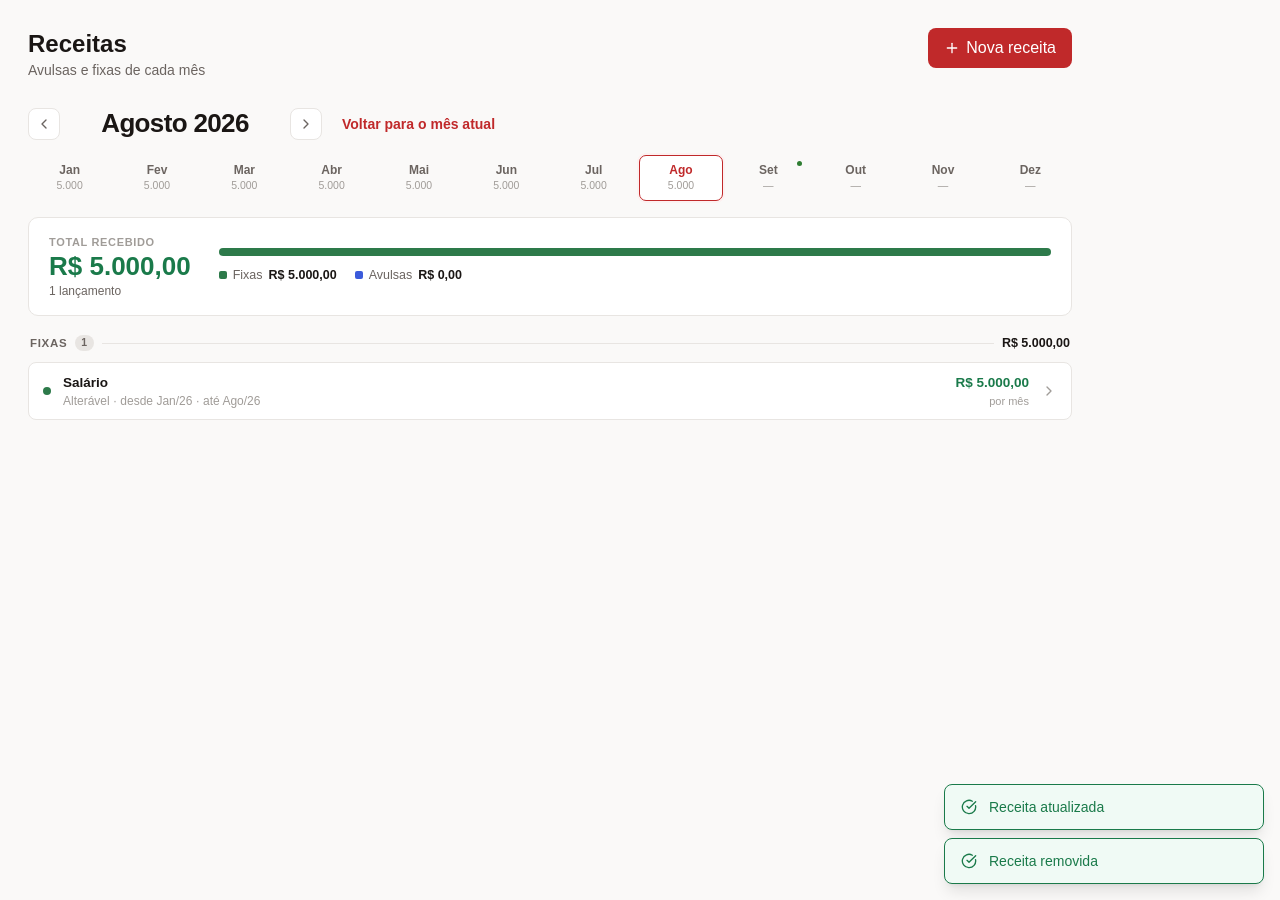
Test: página de receitas: Ficha de fixa › fixa encerrada só consulta
Click the button "Salário" at (86, 382), box 28,362 -> 1072,420
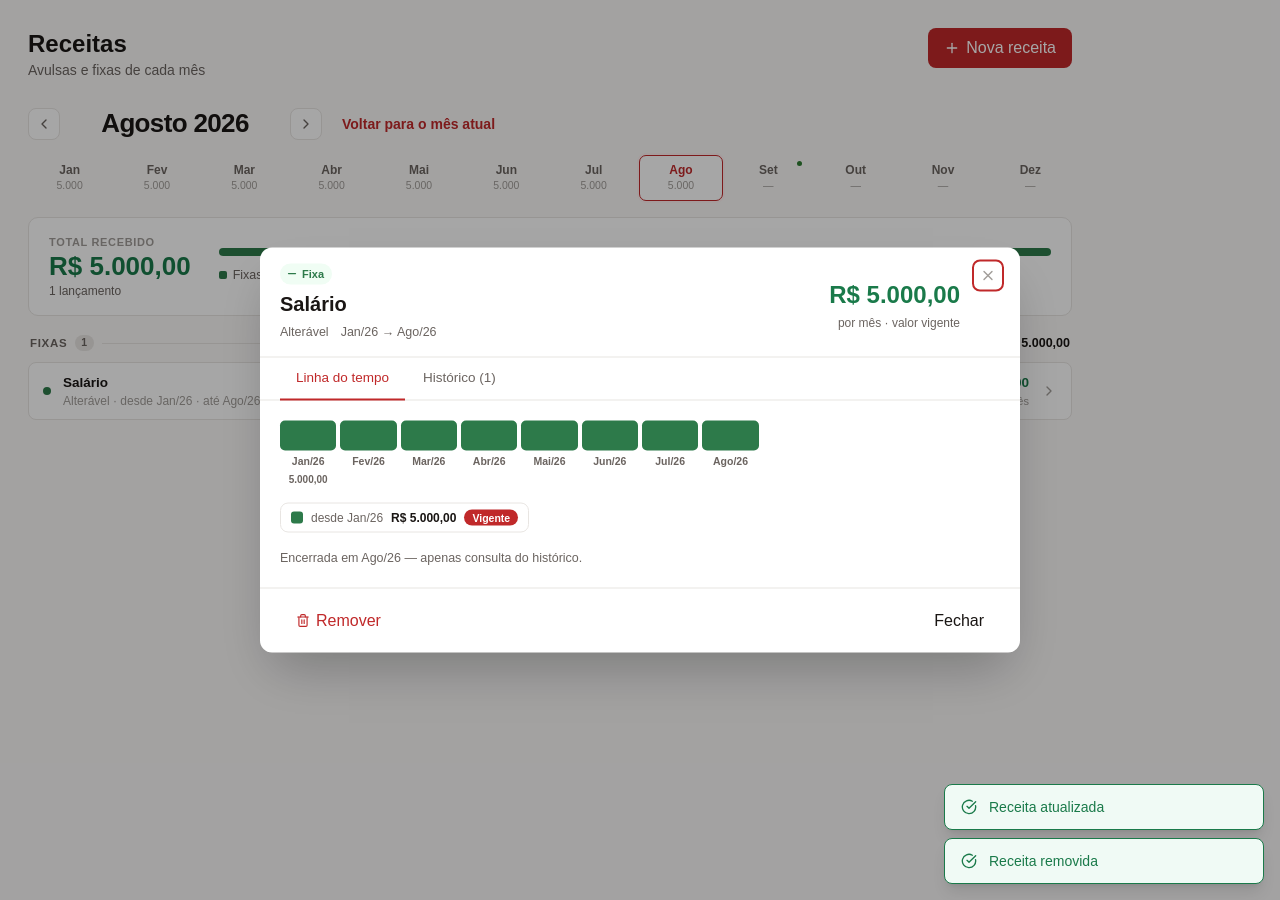
Result: the tab "Linha do tempo" is shown at 280,358 -> 405,400
Result: the text "Encerrada em Ago/26 — apenas consulta do histórico." is shown at 280,551 -> 582,565
Result: the number of buttons named "Fechar" is 2 at 976,264 -> 1000,288; 918,600 -> 1000,640
